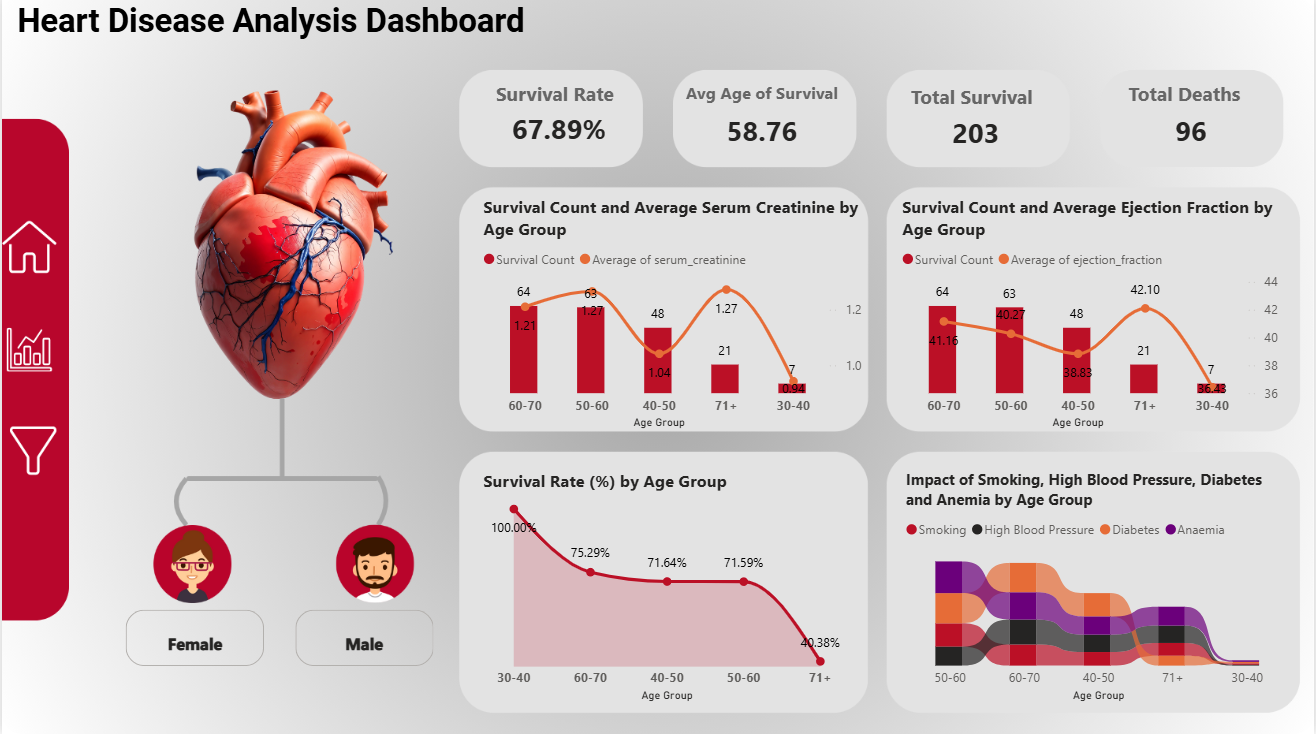

Layout of this report page (visuals, bound fields, positions):
{"tool":"powerbi","page":{"name":"Page 1","canvas":[1280,720],"ordinal":0},"visuals":[{"type":"textbox","box":[10.2,0,555.2,74],"z":0},{"type":"card","fields":{"Values":["heart_Disease_clinical_records_.Survival Rate (%)"]},"box":[397,56.2,292.3,149.3],"z":1000},{"type":"card","fields":{"Values":["heart_Disease_clinical_records_.Average Age of Survivors"]},"box":[601.2,56.2,280.8,153.2],"z":2000},{"type":"card","fields":{"Values":["heart_Disease_clinical_records_.Total Survivors"]},"box":[819.5,74,261.7,120],"z":3000},{"type":"textbox","box":[477.4,77.9,158.3,48.5],"z":4000},{"type":"card","fields":{"Values":["heart_Disease_clinical_records_.Total Deaths"]},"box":[1040.3,71.5,240,120],"z":5000},{"type":"textbox","box":[662.5,77.9,206.8,61.3],"z":6000},{"type":"textbox","box":[882,80.4,160.8,53.6],"z":7000},{"type":"textbox","box":[1093.9,77.9,169.8,53.6],"z":8000},{"type":"lineStackedColumnComboChart","title":"Survival Count and Average Serum Creatinine by Age Group","fields":{"Category":["heart_Disease_clinical_records_.Age Group"],"Y":["CountNonNull(heart_Disease_clinical_records_.DEATH_EVENT)"],"Y2":["Avg(heart_Disease_clinical_records_.serum_creatinine)"]},"box":[464.6,194,381.7,233.6],"z":9000},{"type":"lineStackedColumnComboChart","title":"Survival Count and Average Ejection Fraction by Age Group","fields":{"Category":["heart_Disease_clinical_records_.Age Group"],"Y":["CountNonNull(heart_Disease_clinical_records_.DEATH_EVENT)"],"Y2":["Avg(heart_Disease_clinical_records_.ejection_fraction)"]},"box":[873.1,194,377.8,233.6],"z":10000},{"type":"lineChart","fields":{"Category":["heart_Disease_clinical_records_.Age Group"],"Y":["heart_Disease_clinical_records_.Survival Rate (%)"]},"box":[464.6,460.8,368.9,232.3],"z":11000},{"type":"ribbonChart","title":"Impact of Smoking, High Blood Pressure, Diabetes and Anemia by Age Group","fields":{"Category":["heart_Disease_clinical_records_.Age Group"],"Y":["Sum(heart_Disease_clinical_records_.smoking)","Sum(heart_Disease_clinical_records_.high_blood_pressure)","Sum(heart_Disease_clinical_records_.diabetes)","Sum(heart_Disease_clinical_records_.anaemia)"]},"box":[876.9,460.8,386.8,232.3],"z":12000},{"type":"advancedSlicerVisual","fields":{"Values":["heart_Disease_clinical_records_.Gender"]},"box":[116.2,593.5,310.2,65.1],"z":13000}]}

Visuals, with their boxes in screenshot pixels (x1, y1, x2, y2), scaled from the page's 1280x720 canvas onto the 1316x734 screenshot:
textbox: left=10, top=0, right=581, bottom=75
card - heart_Disease_clinical_records_.Survival Rate (%): left=408, top=57, right=709, bottom=209
card - heart_Disease_clinical_records_.Average Age of Survivors: left=618, top=57, right=907, bottom=213
card - heart_Disease_clinical_records_.Total Survivors: left=843, top=75, right=1112, bottom=198
textbox: left=491, top=79, right=654, bottom=129
card - heart_Disease_clinical_records_.Total Deaths: left=1070, top=73, right=1315, bottom=195
textbox: left=681, top=79, right=894, bottom=142
textbox: left=907, top=82, right=1072, bottom=137
textbox: left=1125, top=79, right=1299, bottom=134
"Survival Count and Average Serum Creatinine by Age Group" lineStackedColumnComboChart: left=478, top=198, right=870, bottom=436
"Survival Count and Average Ejection Fraction by Age Group" lineStackedColumnComboChart: left=898, top=198, right=1286, bottom=436
lineChart - heart_Disease_clinical_records_.Age Group x heart_Disease_clinical_records_.Survival Rate (%): left=478, top=470, right=857, bottom=707
"Impact of Smoking, High Blood Pressure, Diabetes and Anemia by Age Group" ribbonChart: left=902, top=470, right=1299, bottom=707
advancedSlicerVisual - heart_Disease_clinical_records_.Gender: left=119, top=605, right=438, bottom=671
